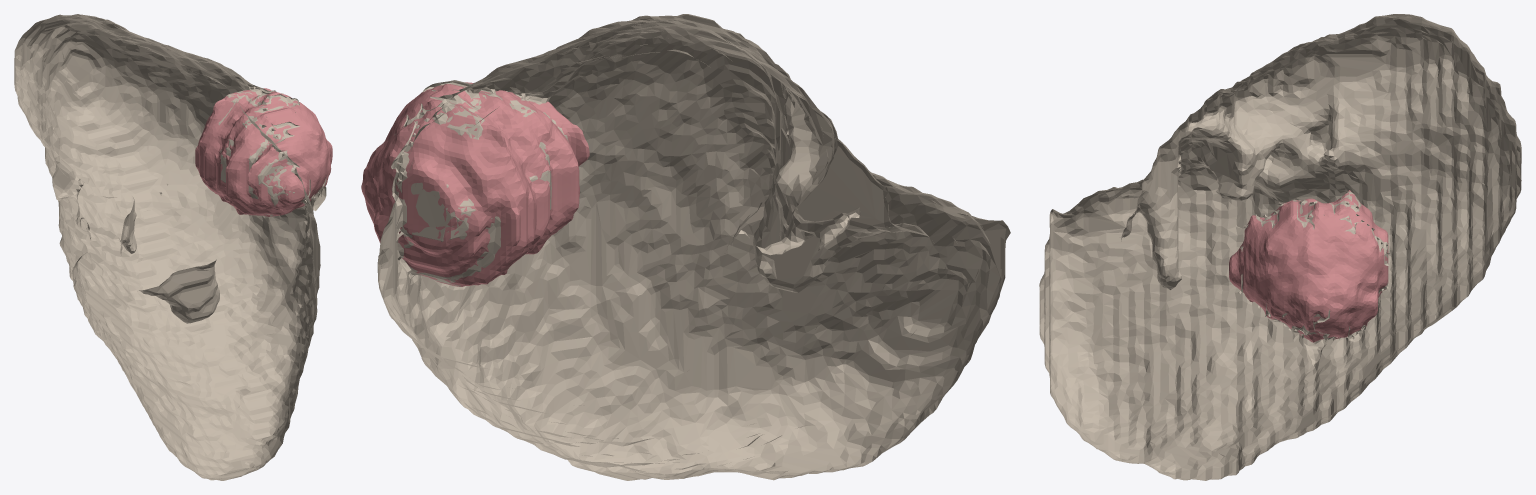
Rendered from reference-d.glb.
3 views of the same model, side by side, from view 1: azimuth 30°, elevation 25°; view 2: azimuth 150°, elevation 25°; view 3: azimuth 270°, elevation 25° (orthographic). The views are drawn at different scales.
Parts seen in each view (by area): view 1: parenchyma, tumour; view 2: parenchyma, tumour; view 3: parenchyma, tumour.
Boxes of the visible parts, x1,y1,x2,y2 form: parenchyma: (14,14,326,480); tumour: (195,88,332,216); parenchyma: (377,14,1010,480); tumour: (361,82,589,286); parenchyma: (1039,14,1521,480); tumour: (1229,190,1388,342).
Size of the model in its own units: 76.76 by 88.61 by 94.09.
